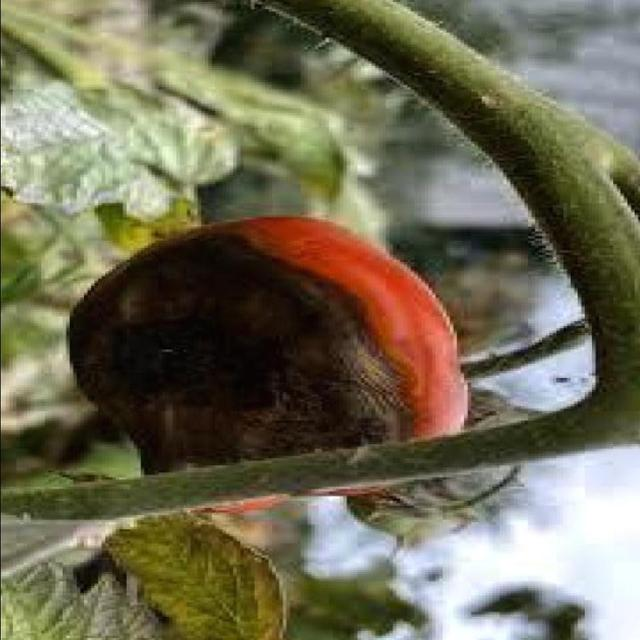Blossom End Rot Fruit: (46, 154, 283, 330)
